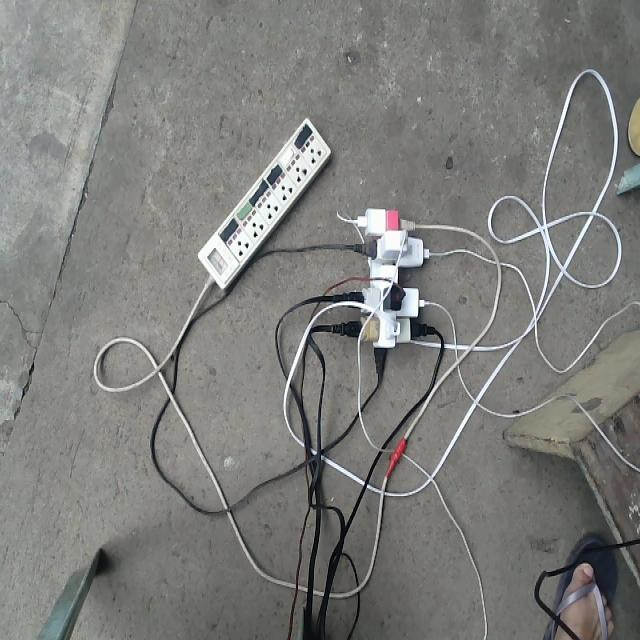-: (331, 206, 437, 382)
